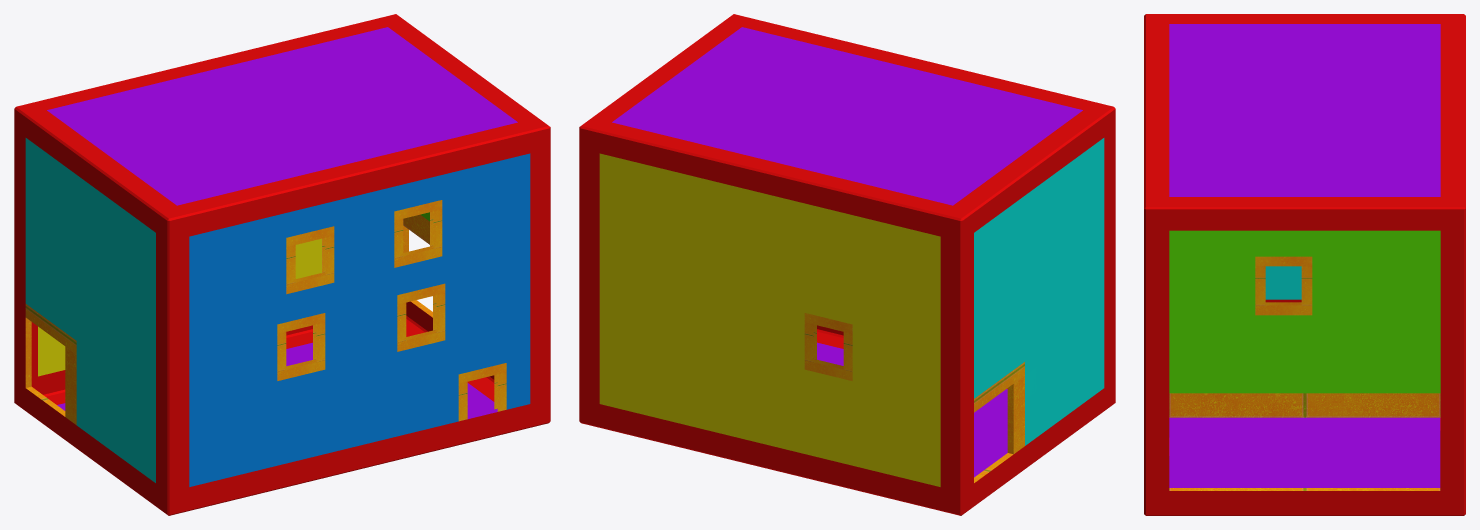
The model's file is SecurityBuilding_03_SM_Low.fbx.
The picture shows the model from 3 angles, left to right: view 1: azimuth 30°, elevation 25°; view 2: azimuth 150°, elevation 25°; view 3: azimuth 270°, elevation 25°; orthographic projection. The views are drawn at different scales.
Visible parts, largest first — view 1: Wall_1, Corners2, Ceiling_and_Base, Wall_2, Rims, Wall_3; view 2: Wall_3, Corners2, Ceiling_and_Base, Wall_2, Rims; view 3: Ceiling_and_Base, Corners2, Wall_4, Rims, Wall_2.
Part boxes in pixels (x1=…): Wall_1: x1=189, y1=153, x2=530, y2=486; Corners2: x1=14, y1=14, x2=550, y2=515; Ceiling_and_Base: x1=47, y1=27, x2=517, y2=418; Wall_2: x1=25, y1=138, x2=155, y2=482; Rims: x1=25, y1=200, x2=506, y2=424; Wall_3: x1=38, y1=238, x2=321, y2=376; Wall_3: x1=599, y1=153, x2=940, y2=486; Corners2: x1=579, y1=14, x2=1115, y2=515; Ceiling_and_Base: x1=612, y1=27, x2=1082, y2=477; Wall_2: x1=974, y1=138, x2=1104, y2=445; Rims: x1=804, y1=313, x2=1024, y2=482; Ceiling_and_Base: x1=1169, y1=24, x2=1440, y2=487; Corners2: x1=1144, y1=14, x2=1465, y2=515; Wall_4: x1=1169, y1=230, x2=1440, y2=393; Rims: x1=1169, y1=256, x2=1440, y2=490; Wall_2: x1=1265, y1=266, x2=1301, y2=299.
Size of the model in its own units: 25.6 by 18.97 by 17.89.
Materials: 7 (1 with a texture image).
